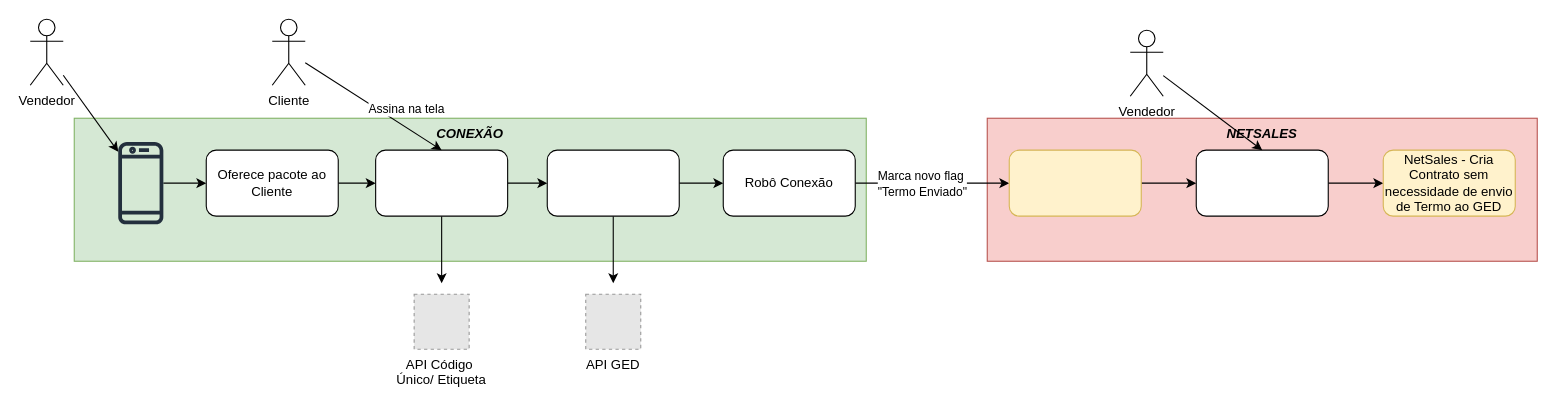
The diagram is 1557 pixels wide and 407 high, and some of its shapes have lost their labels. Grey dashed boxes stand in for pictures. Each missing label, with the centre of its shape:
"Conexão PAP" belongs at (140,183).
"Envia GED" belongs at (612,182).
"Gera termo" belongs at (441,182).
"NetSales - Cria proposta com nova marcação" belongs at (1074,182).
"NetSales - Seleciona Produtos" belongs at (1261,182).
